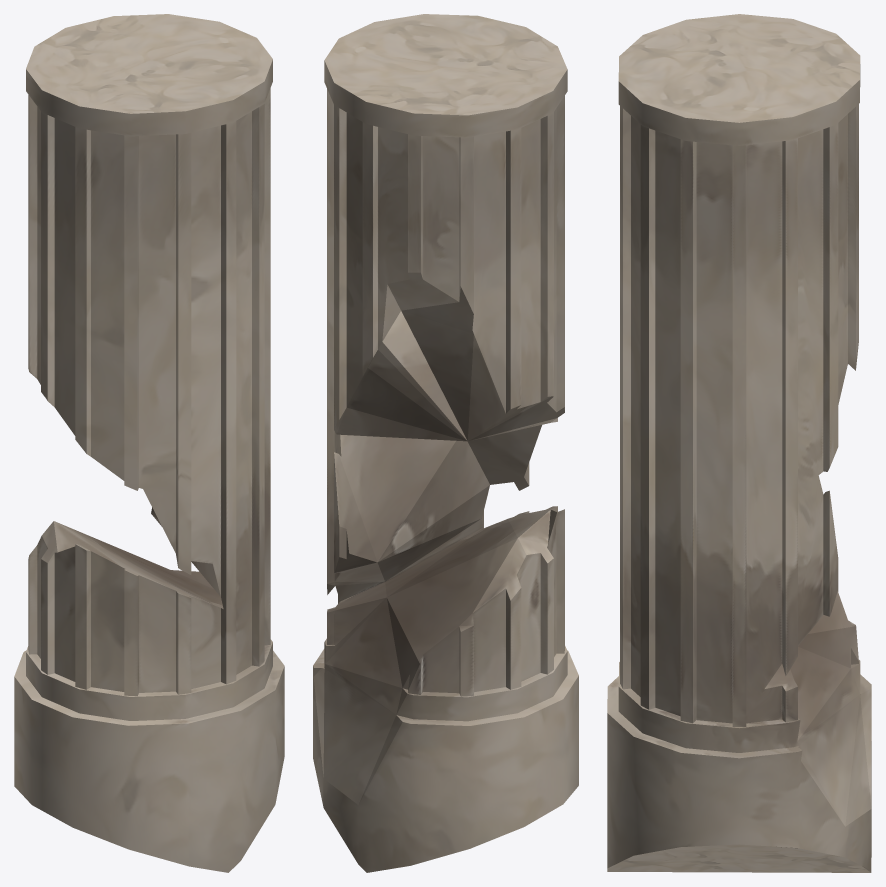
The model's file is kolumna_2_srodek.obj.
3 renders of one model, left to right at view 1: azimuth 30°, elevation 25°; view 2: azimuth 150°, elevation 25°; view 3: azimuth 270°, elevation 25°, orthographic. The views are drawn at different scales.
Parts seen in each view (by area): view 1: Cube.007; view 2: Cube.007; view 3: Cube.007.
Part boxes in pixels (x1=…): Cube.007: x1=14, y1=14, x2=284, y2=872; Cube.007: x1=313, y1=14, x2=578, y2=872; Cube.007: x1=607, y1=14, x2=871, y2=872.
Bounding box in the file's own units: 5.43 × 16.94 × 5.08.
Materials: 1 (1 with a texture image).
